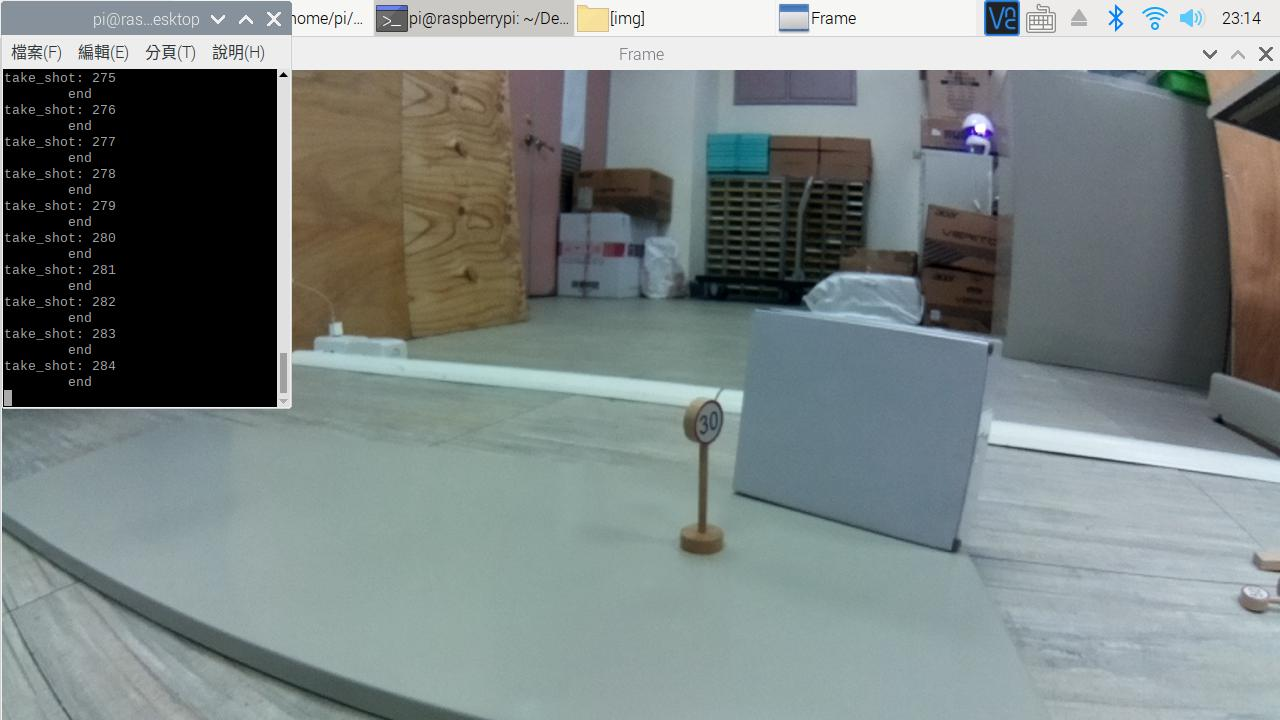Speed30: (668, 390, 740, 462)
